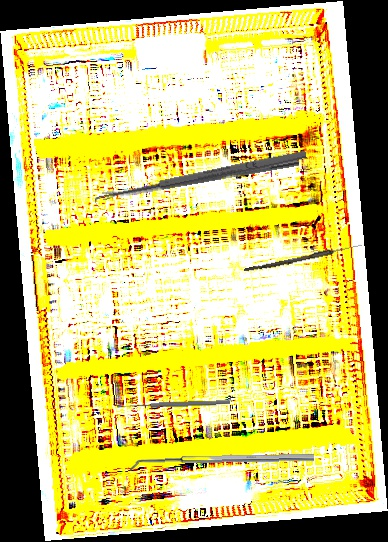Hook Surgical: (93, 146, 309, 214)
Spatula Surgical: (129, 453, 315, 472)
Surgical Spoon: (101, 156, 300, 201), (243, 241, 364, 275), (116, 399, 231, 409)
